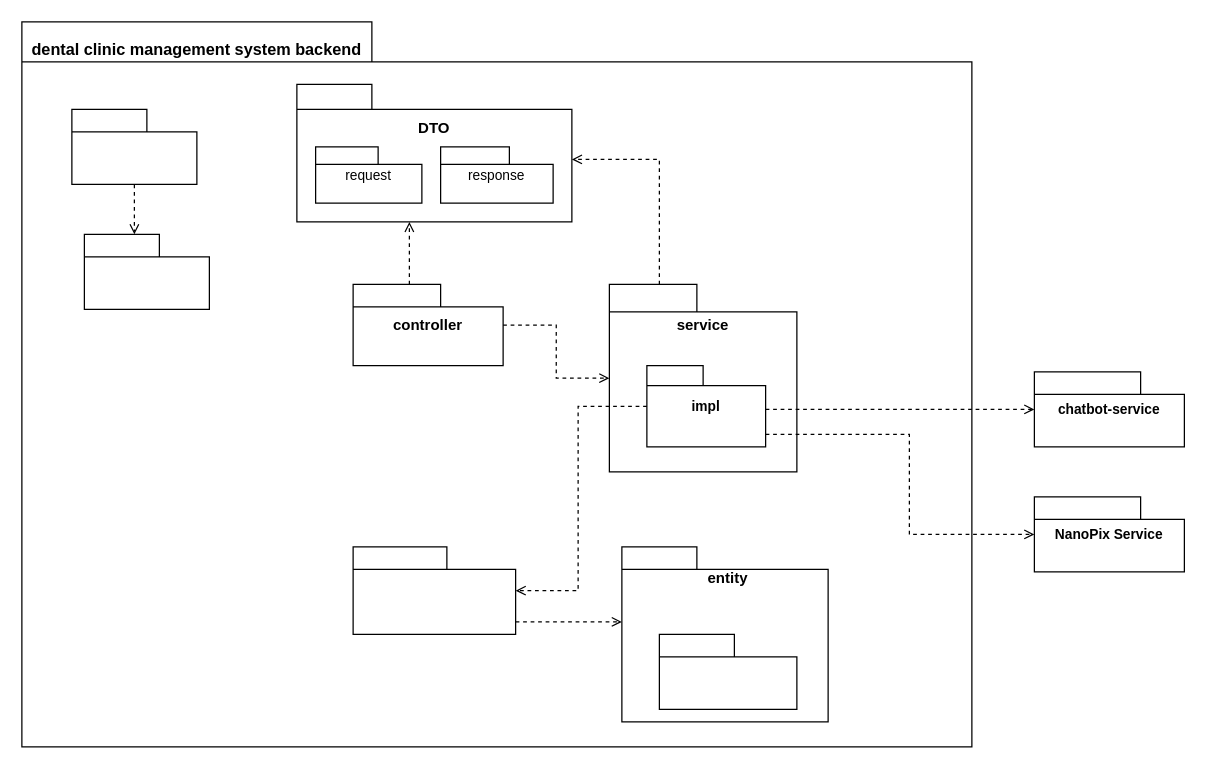
Image size: 1206x769. Some labels were removed from this diagram. The shapes that lost their labels are listed below. From the top down, each one's centre as x and y in pixels, then its label:
At (134,146): "config".
At (146,271): "security".
At (434,590): "repository".
At (727,671): "enums".
